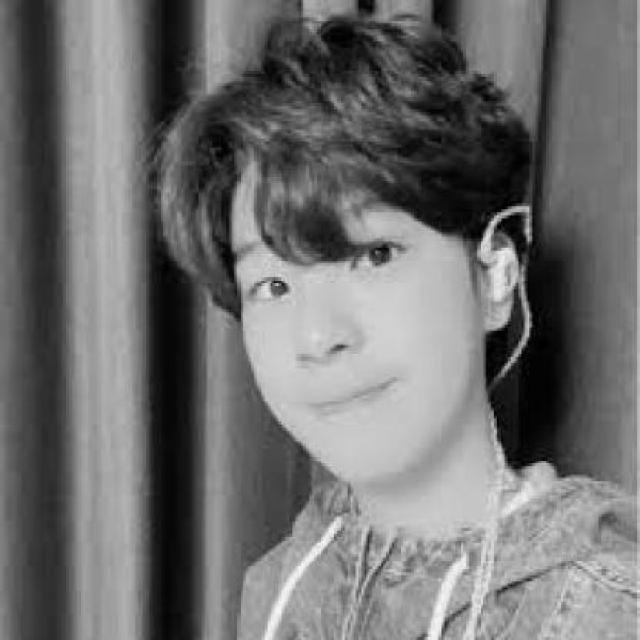earphone: (478, 222, 535, 312)
